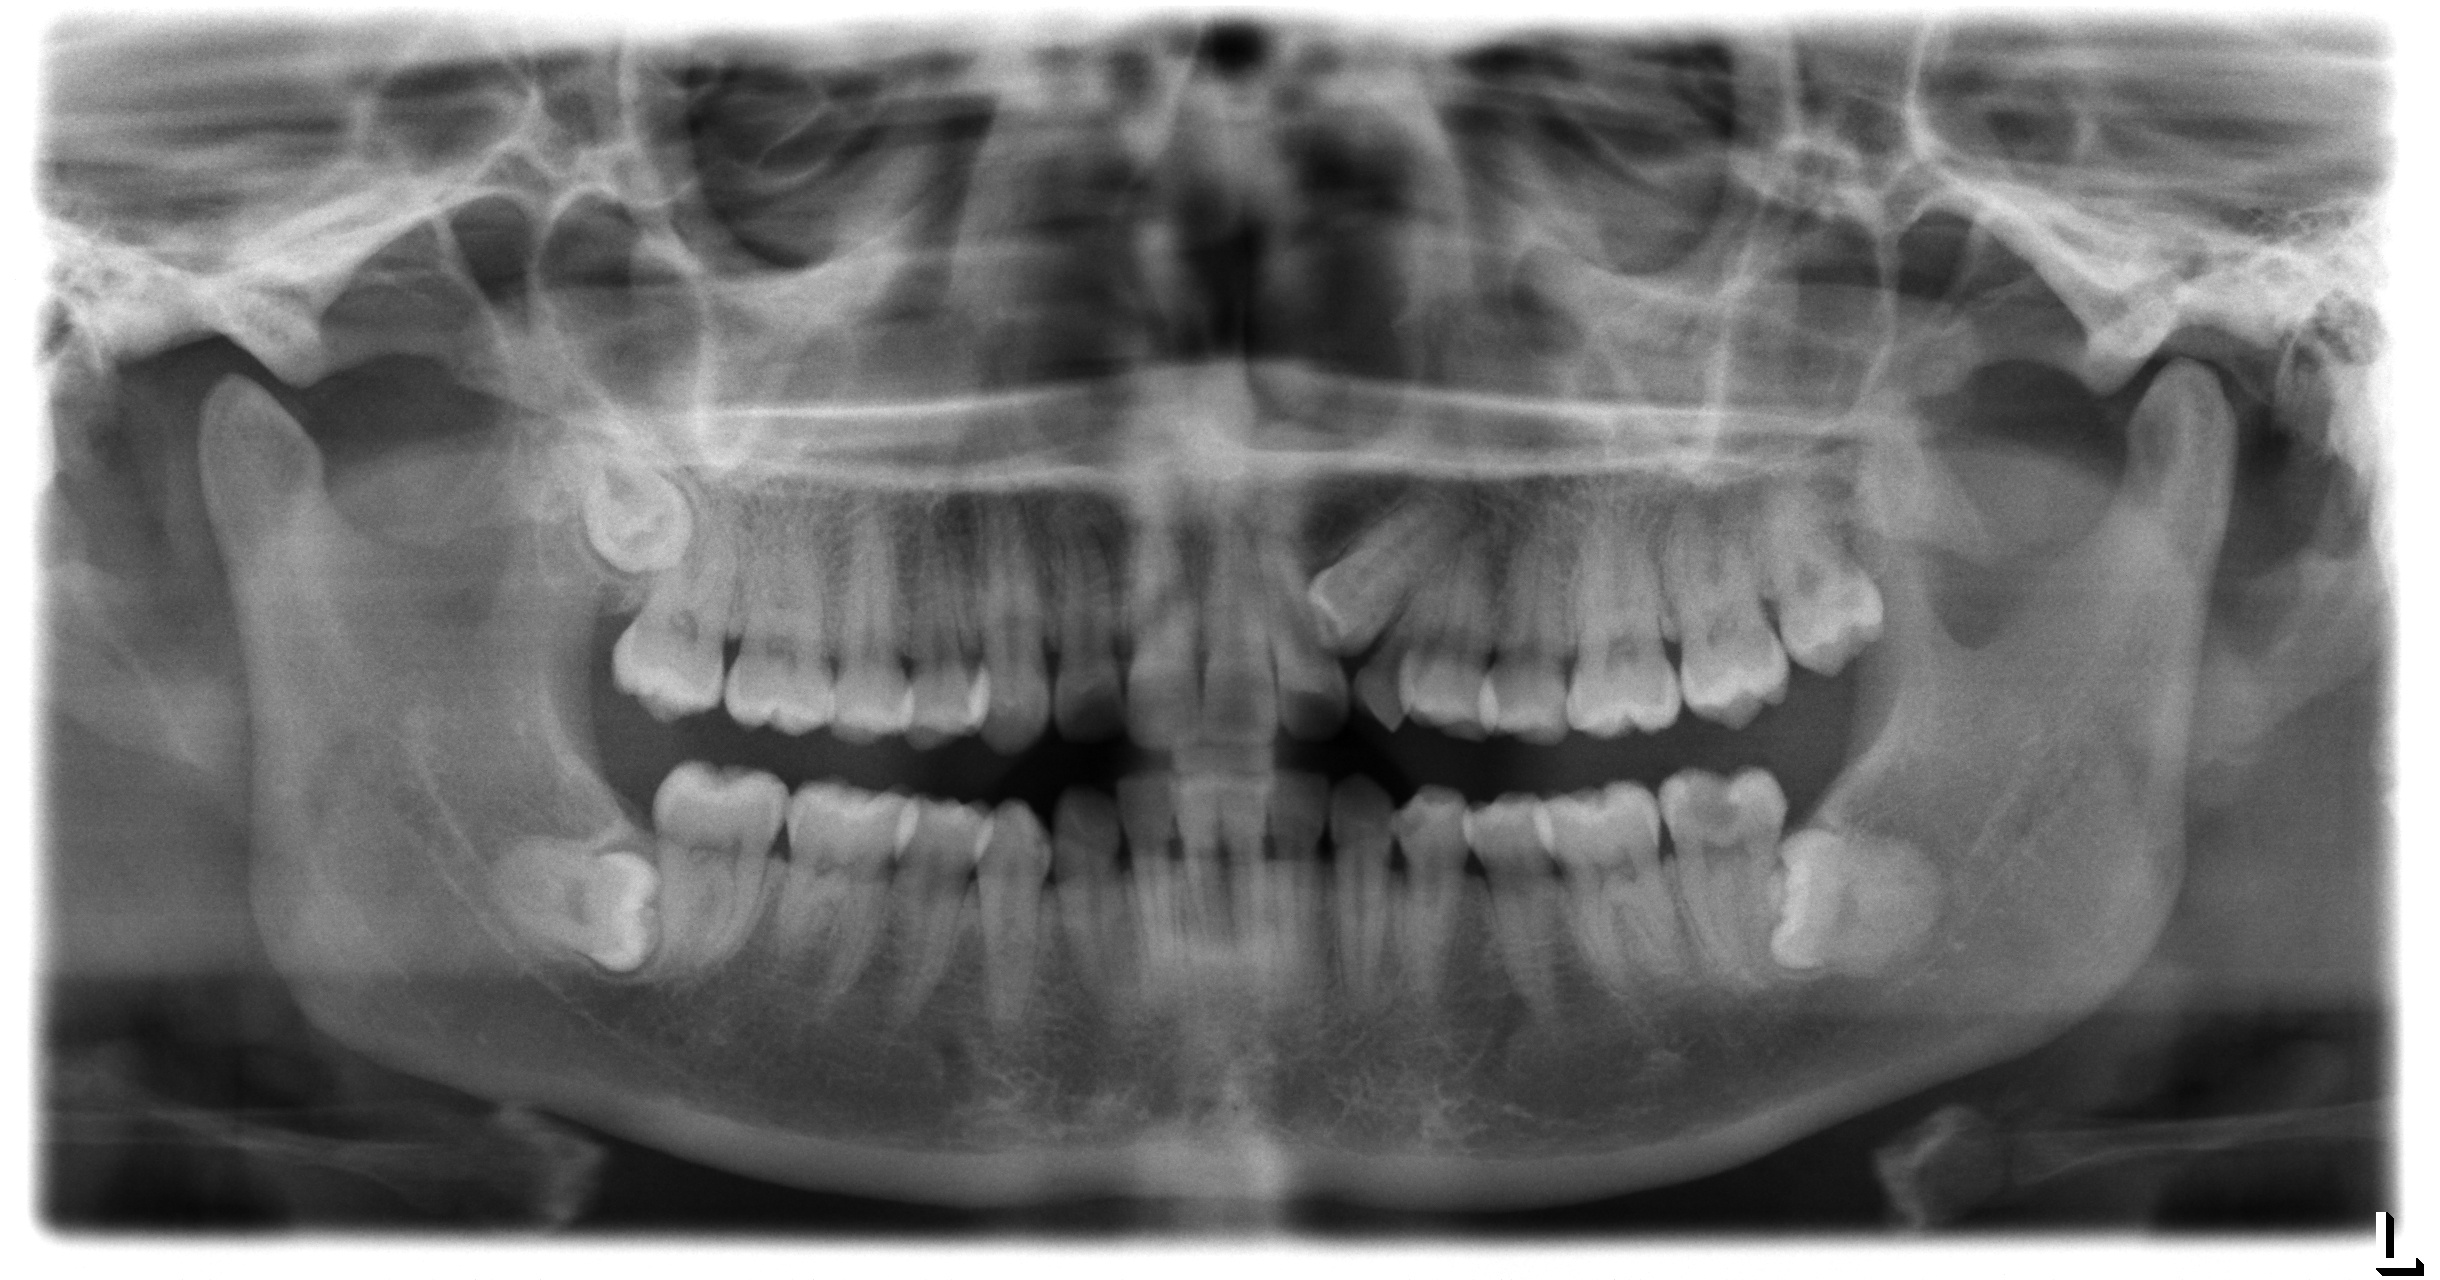Decay: (1659, 767, 1741, 830)
